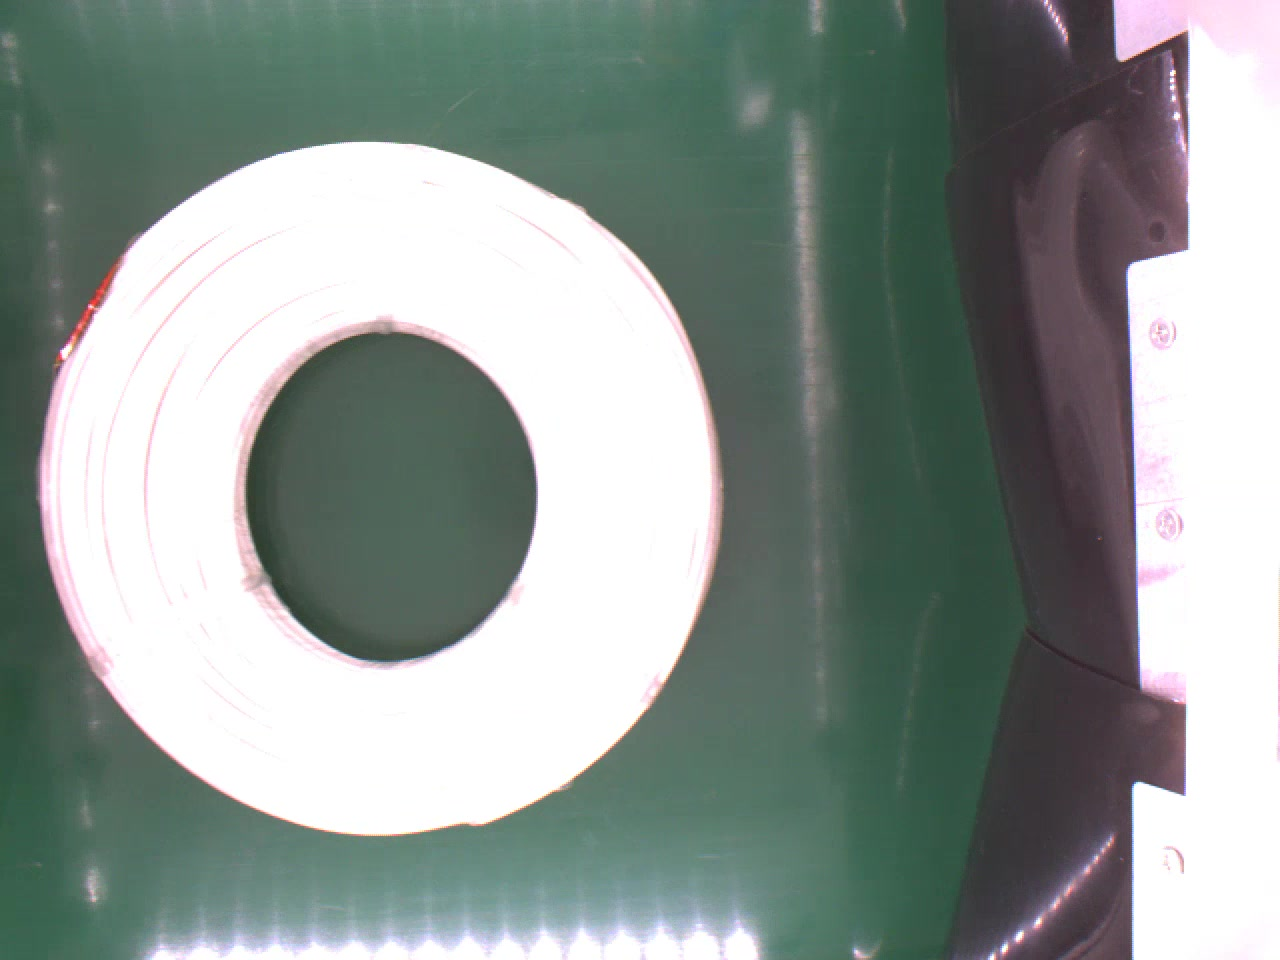white: (32, 134, 738, 857)
